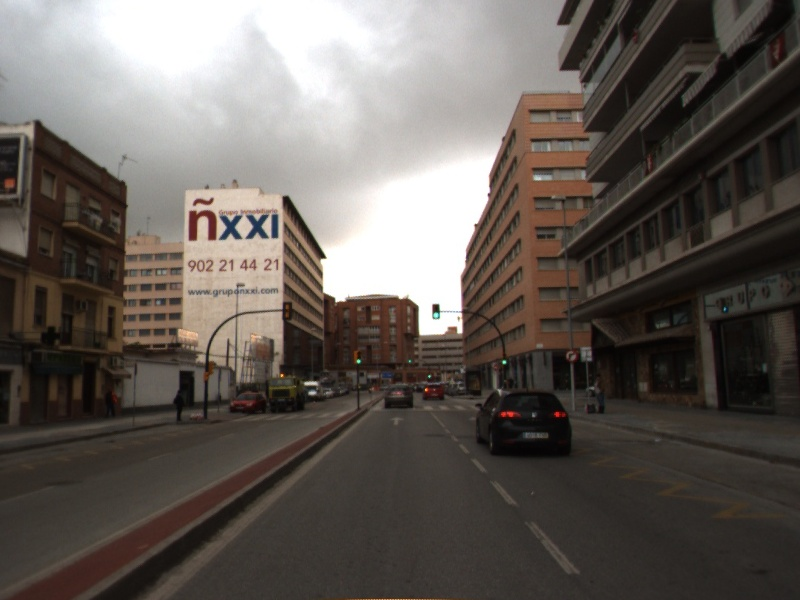STRAIGHT: (387, 415, 407, 428)
